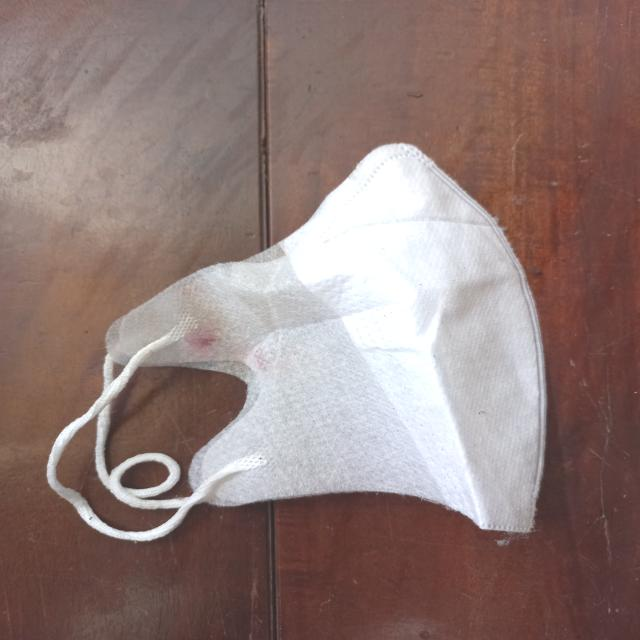masker: (37, 130, 557, 568)
